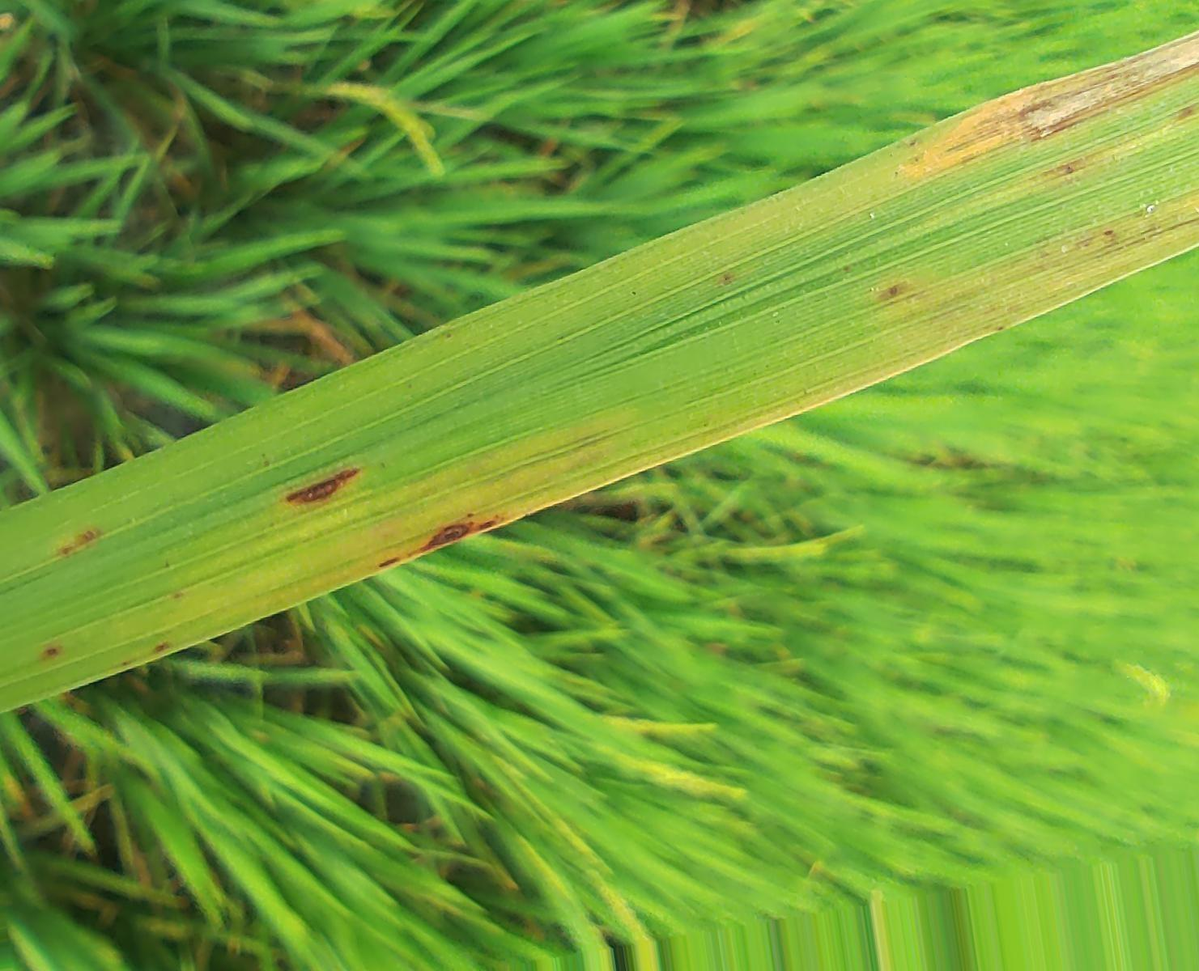LEAF: (1, 33, 1198, 709)
LEAF BLAST: (1023, 35, 1198, 137), (287, 466, 359, 505), (419, 523, 470, 552)
